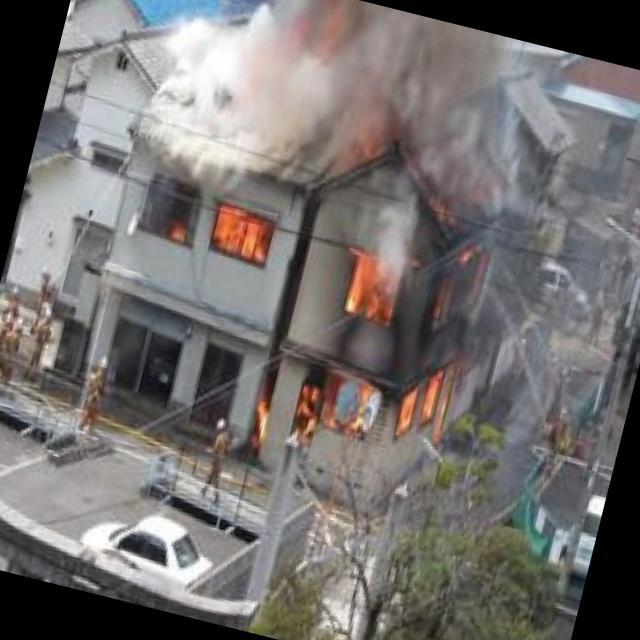Fire: (286, 207, 504, 481), (160, 199, 289, 273)
